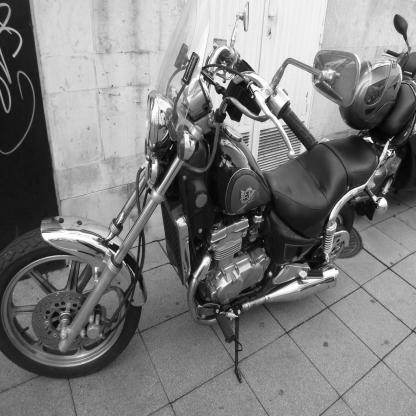moto: (1, 34, 410, 376)
